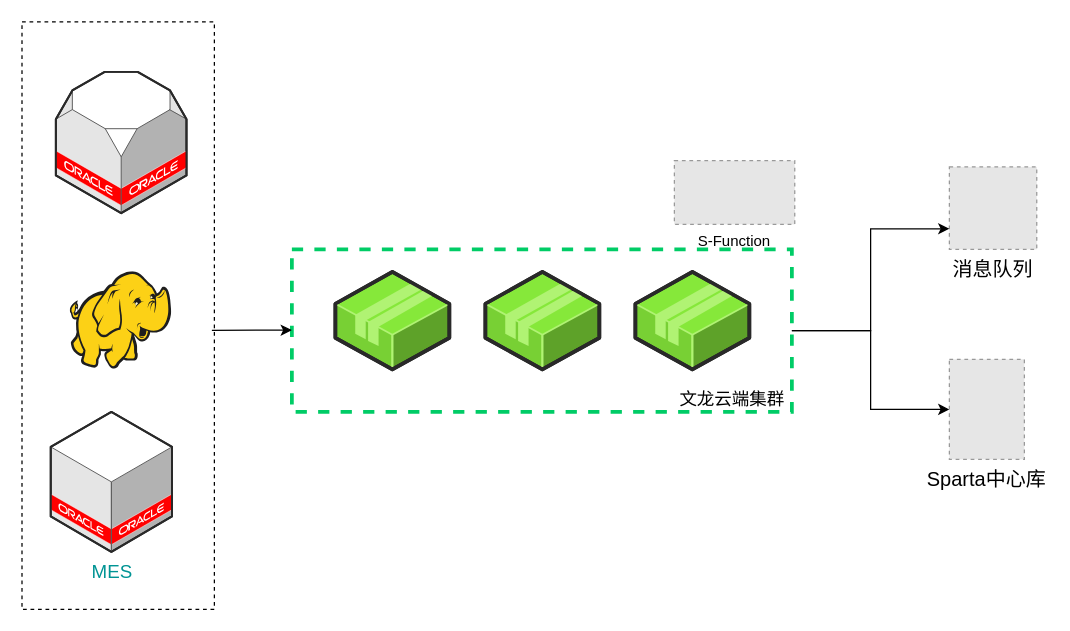
Some shapes in this 1070 by 631 pixel diagram are drawn without their labels. Grey dashed boxes stand in for pictures. Each missing label, with the centre of its shape:
ERP: (120,142)
主数据平台: (120,320)
